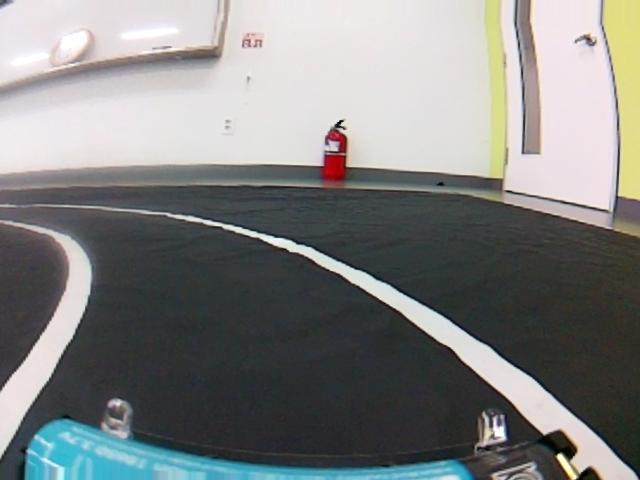left: (0, 197, 637, 480)
